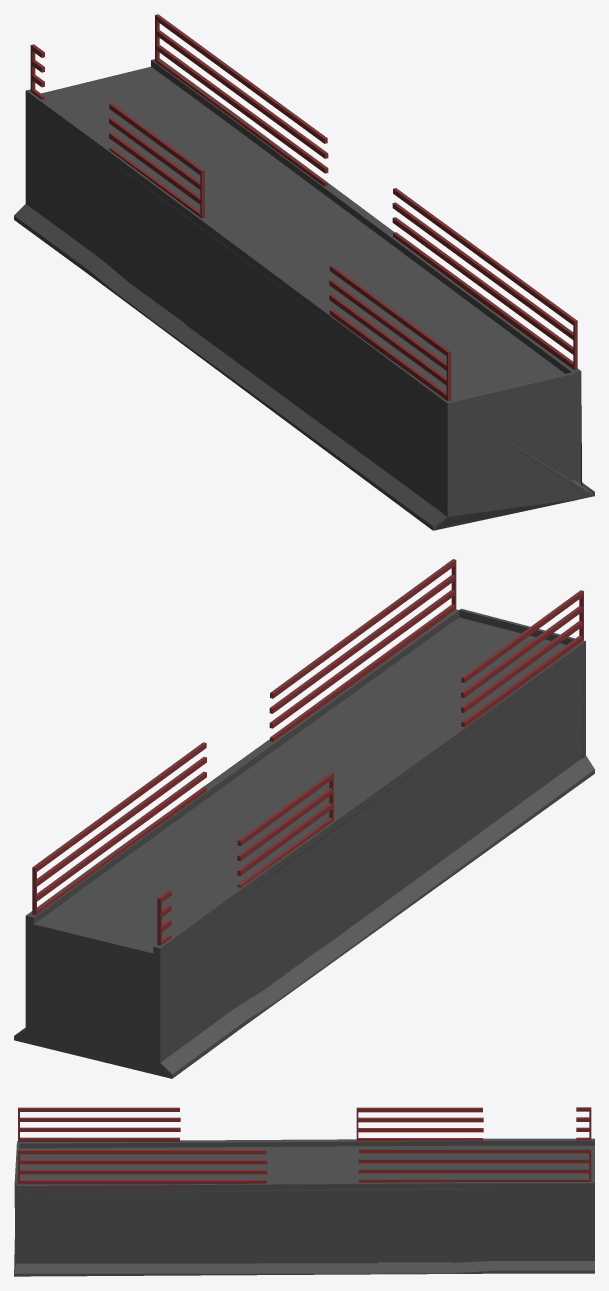
Rendered from Level3 conveyor foundation.fbx.
The picture shows the model from 3 angles, top to bottom: view 1: azimuth 30°, elevation 25°; view 2: azimuth 150°, elevation 25°; view 3: azimuth 270°, elevation 25°; orthographic projection. The views are drawn at different scales.
Visible parts, largest first — view 1: polySurface122; view 2: polySurface122; view 3: polySurface122.
Part boxes in pixels (x1,y1,x2,y2): polySurface122: [14, 14, 594, 530]; polySurface122: [14, 559, 594, 1078]; polySurface122: [14, 1107, 594, 1276].
Bounding box in the file's own units: 8.09 × 8.74 × 37.85.
